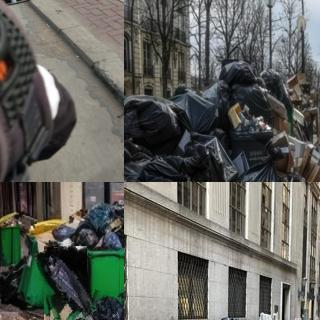Garbage: (38, 243, 92, 320), (124, 94, 190, 151), (220, 59, 271, 118), (138, 155, 201, 182), (85, 291, 124, 320)
